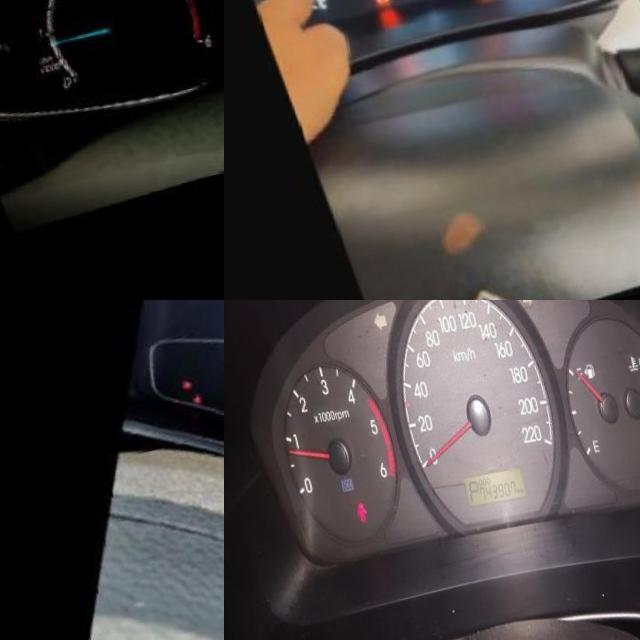Doors: (337, 509, 349, 528)
